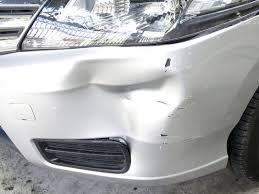front-bumper-dent: (34, 55, 210, 186)
